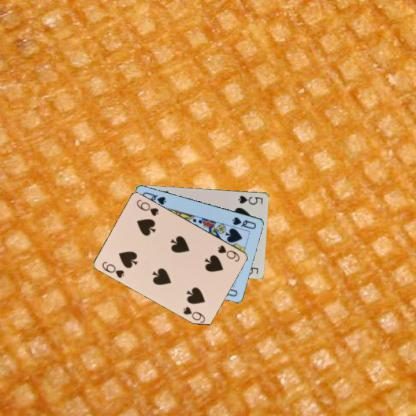5s: (236, 193, 264, 206)
6s: (99, 259, 126, 279), (215, 243, 241, 263)
Qs: (230, 214, 257, 230)
